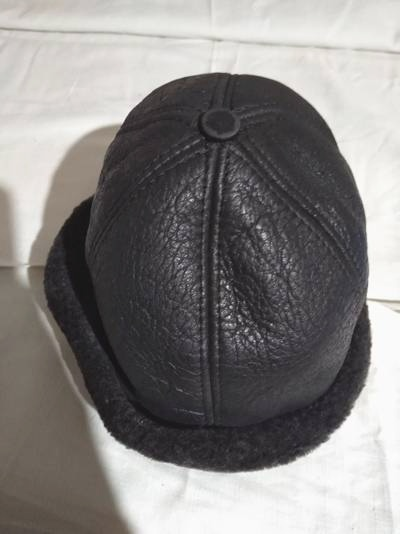Hat: (29, 45, 400, 455)
